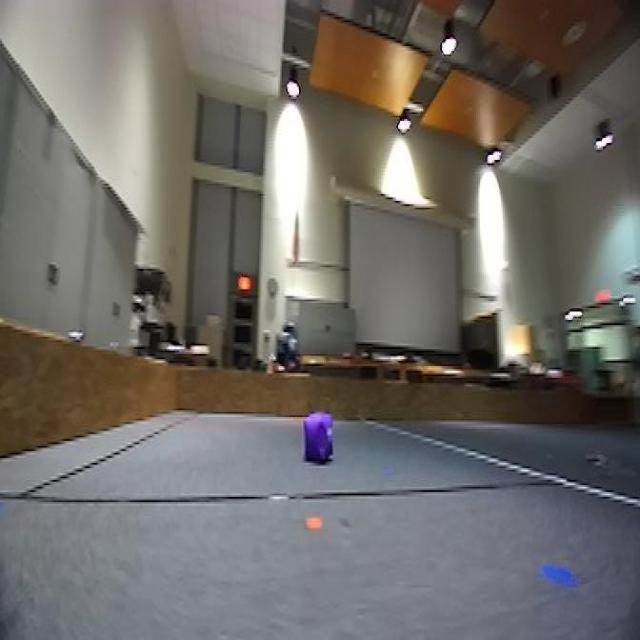frc_cube: (303, 412, 336, 468)
